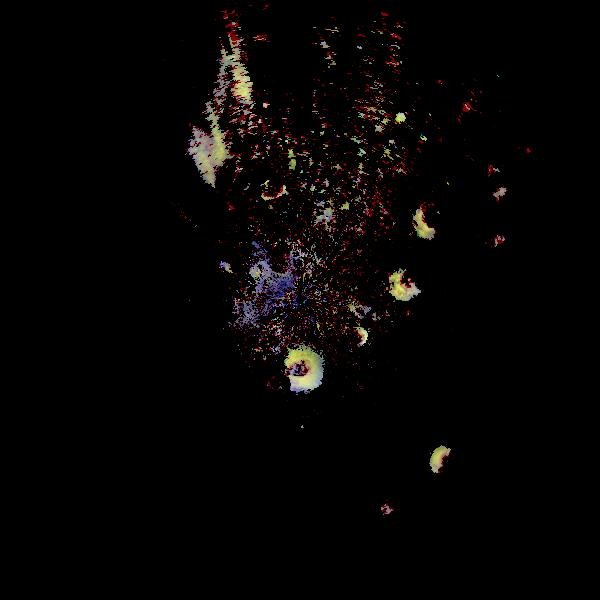roost: (276, 344, 333, 401), (411, 192, 465, 246), (425, 445, 464, 484), (386, 266, 425, 305), (255, 176, 288, 209), (348, 328, 369, 349), (377, 500, 395, 518)
